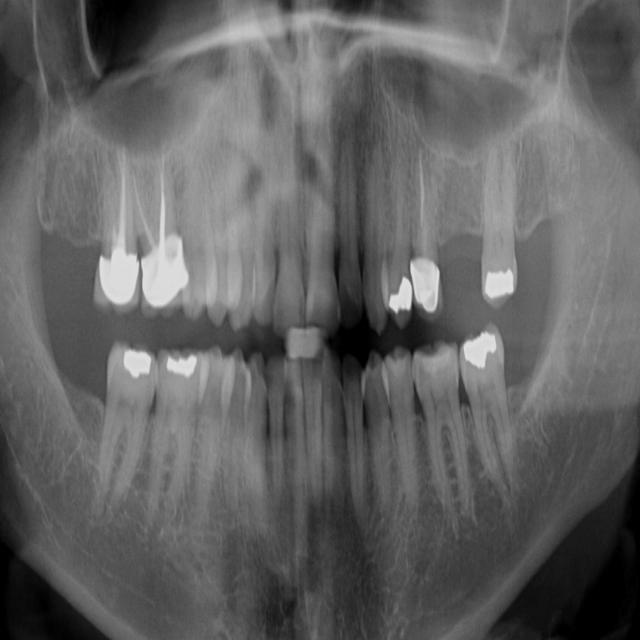dentin-curugu: (334, 277, 362, 327)
dolgu: (472, 265, 525, 316), (456, 322, 506, 372), (117, 343, 157, 389), (382, 272, 416, 324), (160, 350, 200, 390)
kanal-tedavisi: (100, 152, 140, 257), (409, 148, 438, 270), (146, 156, 177, 253)
kaplama: (134, 238, 188, 304), (92, 247, 144, 309)
